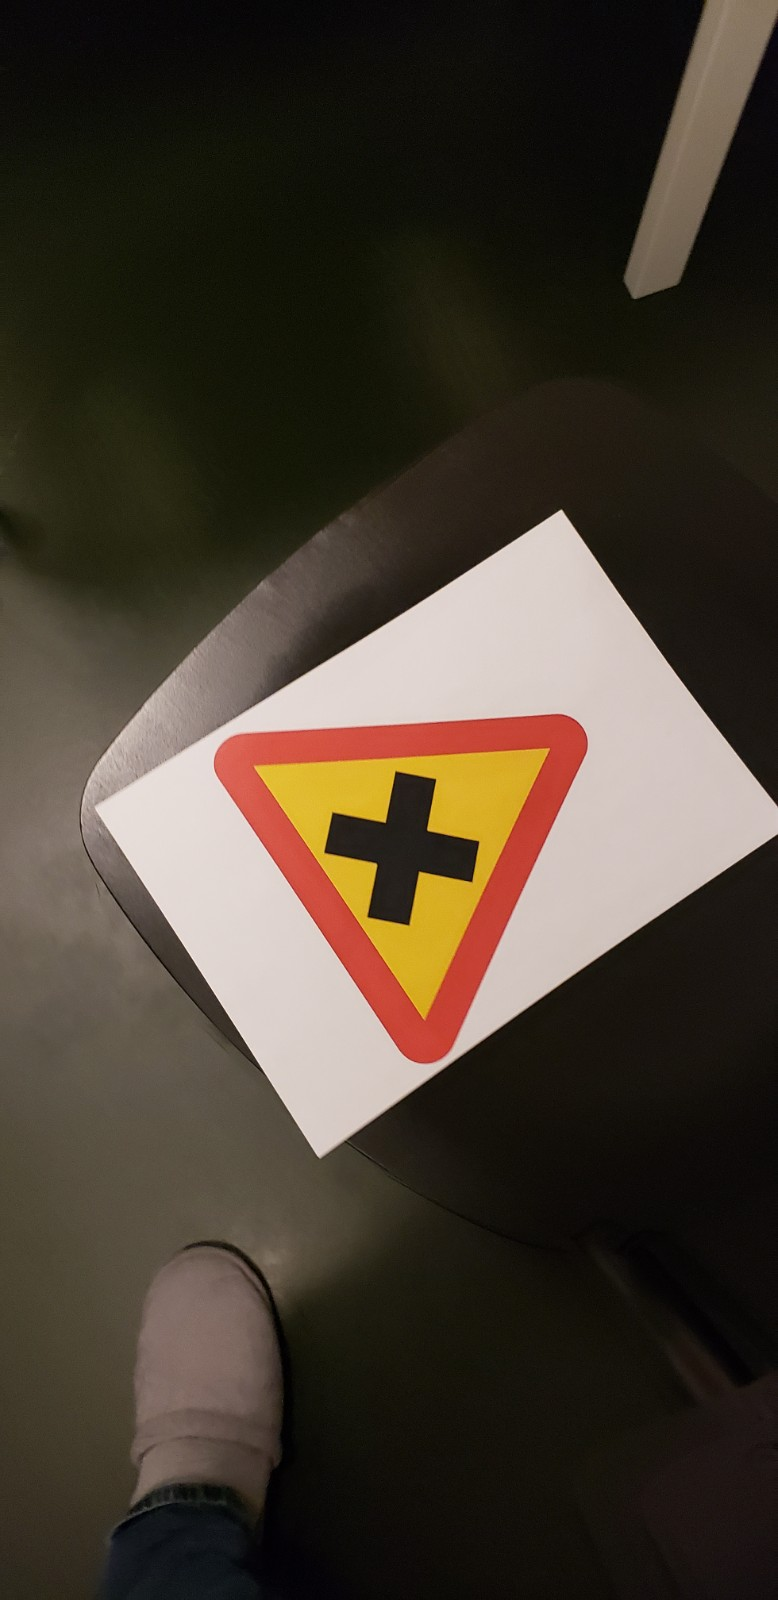junction: (195, 707, 651, 1106)
